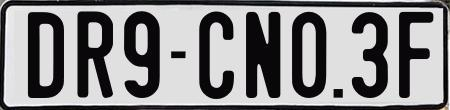0: (290, 12, 328, 100)
3: (349, 12, 391, 101)
9: (124, 9, 161, 100)
C: (196, 8, 237, 99)
D: (28, 11, 65, 103)
F: (398, 11, 435, 102)
N: (243, 11, 281, 101)
R: (76, 8, 114, 97)
